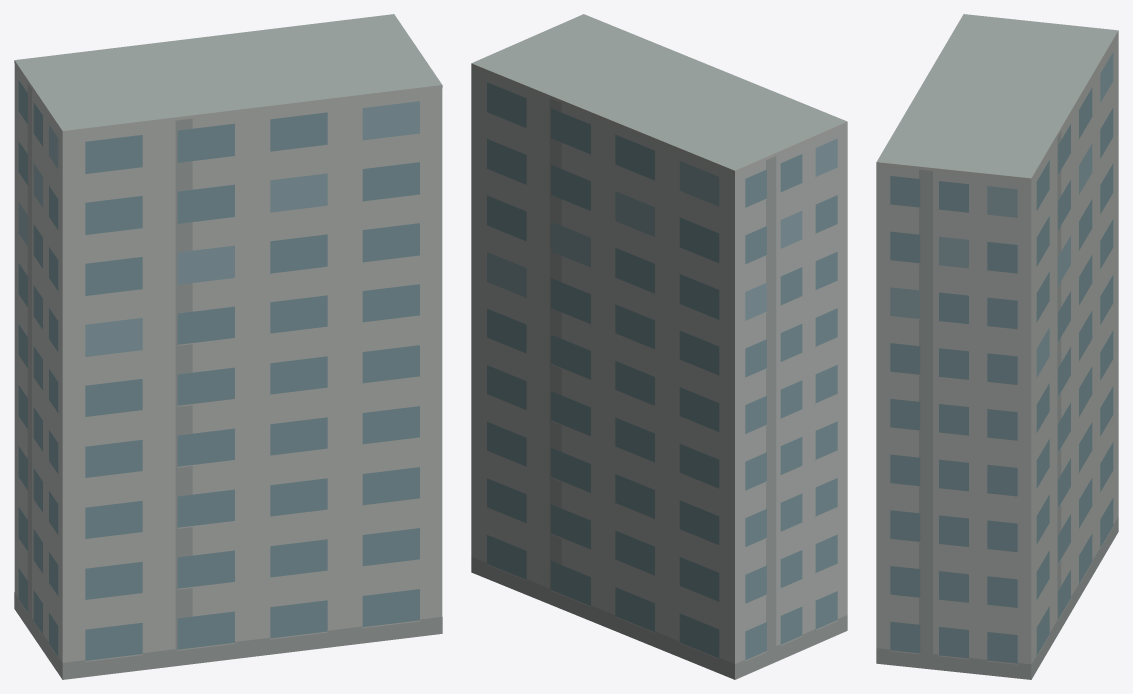
Rendered from residential-7b77d909-0960-4ea0-80cc-1ae5a12e6c84.glb.
3 views of the same model, side by side, from view 1: azimuth 30°, elevation 25°; view 2: azimuth 150°, elevation 25°; view 3: azimuth 270°, elevation 25° (orthographic). The views are drawn at different scales.
Visible parts, largest first — view 1: residential-7b77d909-0960-4ea0-80cc-1ae5a12e6c84.tmp; view 2: residential-7b77d909-0960-4ea0-80cc-1ae5a12e6c84.tmp; view 3: residential-7b77d909-0960-4ea0-80cc-1ae5a12e6c84.tmp.
Boxes of the visible parts, left/top/right/bottom form: residential-7b77d909-0960-4ea0-80cc-1ae5a12e6c84.tmp: left=14, top=14, right=442, bottom=679; residential-7b77d909-0960-4ea0-80cc-1ae5a12e6c84.tmp: left=471, top=14, right=847, bottom=679; residential-7b77d909-0960-4ea0-80cc-1ae5a12e6c84.tmp: left=876, top=14, right=1118, bottom=679.
Bounding box in the file's own units: 28.83 × 41 × 17.95.
